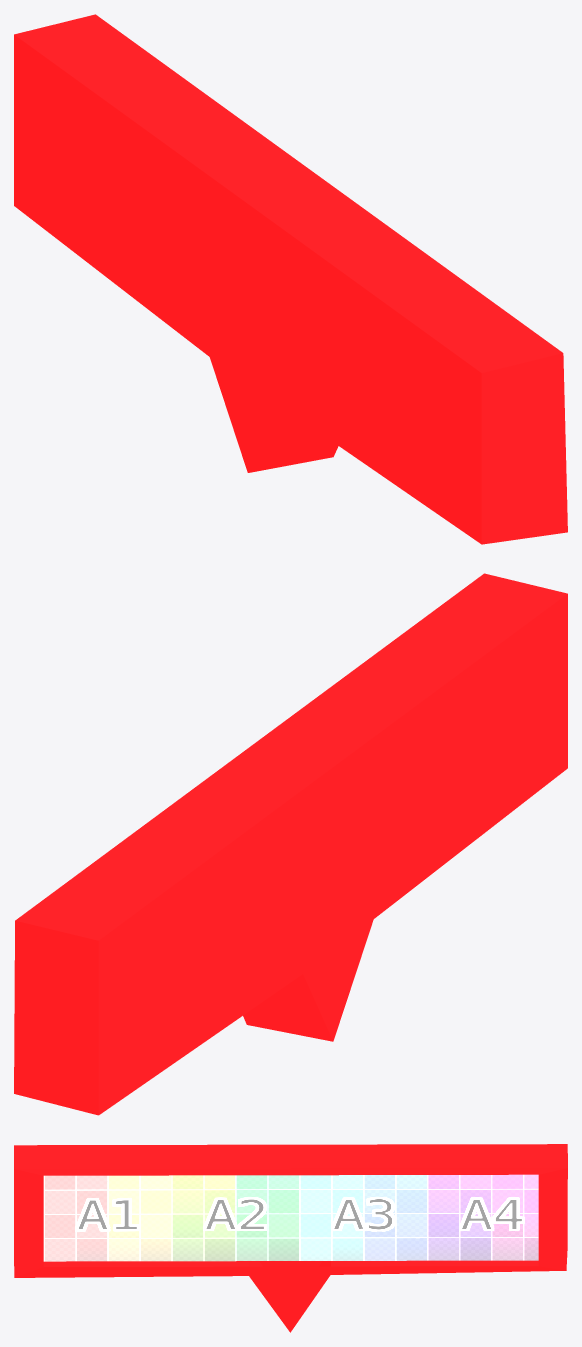
The model's file is hp_dessus_1.glb.
3 renders of one model, top to bottom at view 1: azimuth 30°, elevation 25°; view 2: azimuth 150°, elevation 25°; view 3: azimuth 270°, elevation 25°, orthographic. The views are drawn at different scales.
Parts seen in each view (by area): view 1: dessus_content; view 2: dessus_content; view 3: dessus_content.
Part boxes in pixels (x1,y1,x2,y2): dessus_content: [14, 14, 567, 544]; dessus_content: [14, 573, 567, 1115]; dessus_content: [14, 1144, 567, 1332].
Size of the model in its own units: 0.2311 by 0.6511 by 2.
